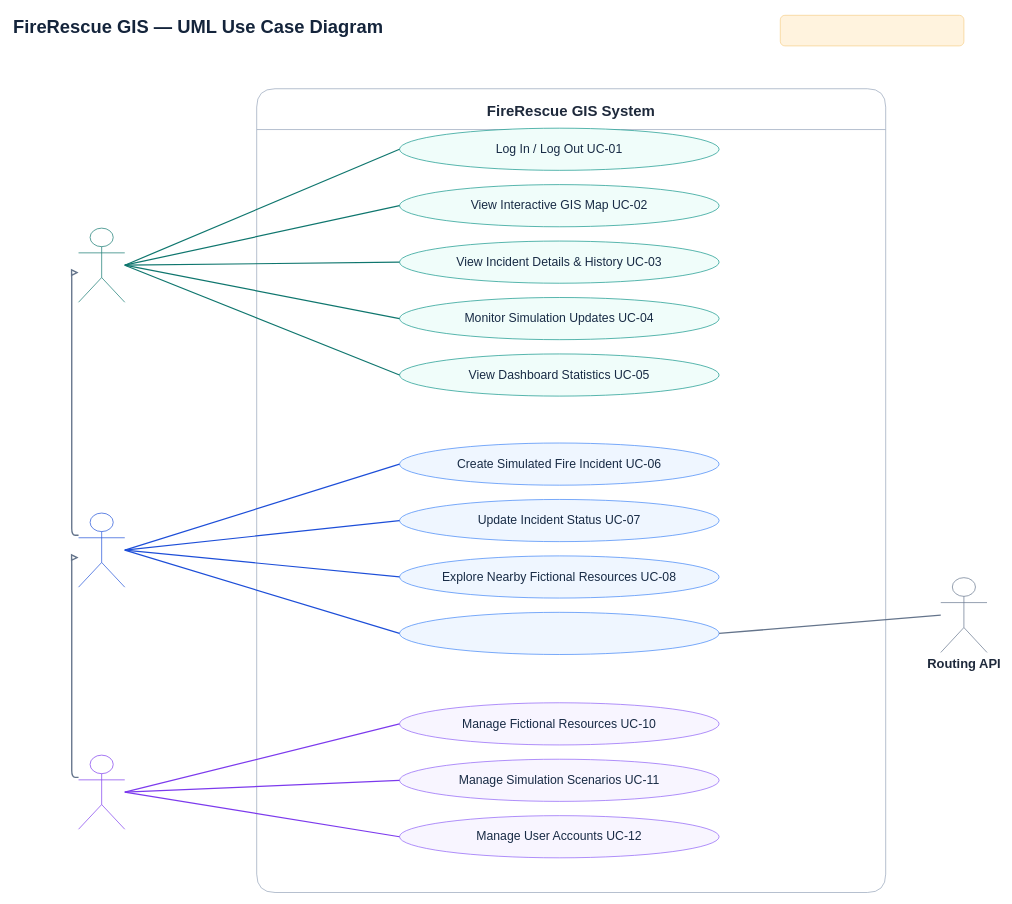
The diagram is 1012 pixels wide and 904 high, and some of its shapes have lost their labels. Here are the shapes that lost their labels. From the top down, the centre of each, then its label:
At point (872, 30): "SIMULATION ONLY".
At point (101, 264): "Viewer".
At point (101, 549): "Operator".
At point (559, 633): "Calculate & Compare Road Routes UC-09".
At point (101, 791): "Administrator".
